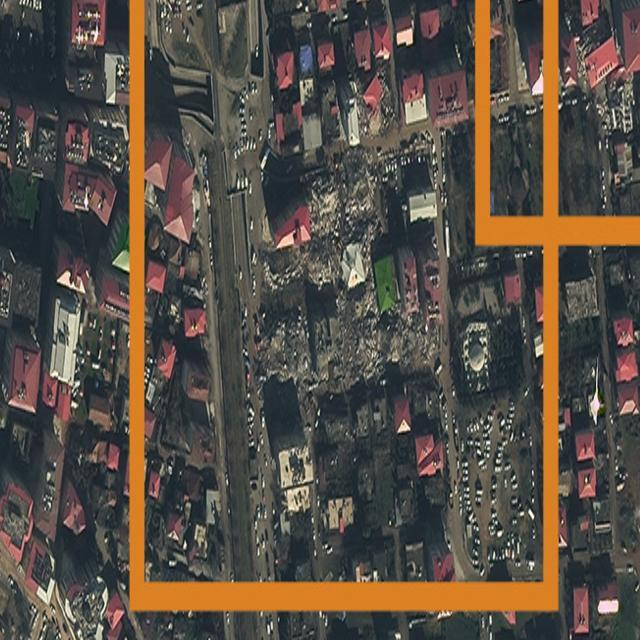Rubble: (255, 316, 303, 384), (388, 314, 448, 362), (306, 166, 341, 235), (342, 148, 376, 214), (344, 307, 379, 371), (307, 244, 347, 288), (260, 258, 310, 292), (382, 71, 397, 123), (358, 77, 370, 137)
